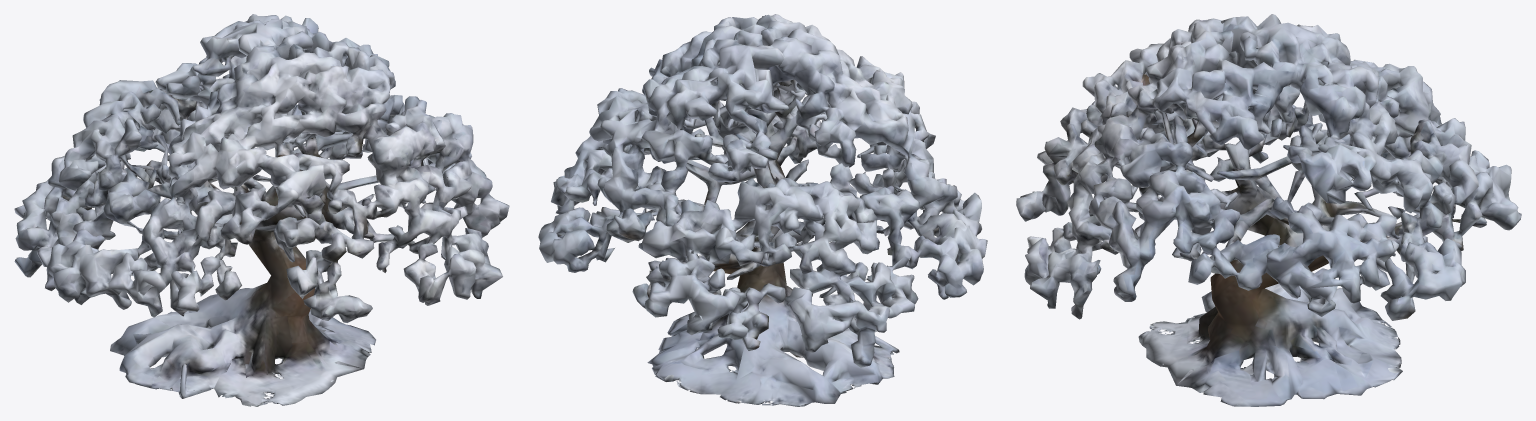
Rendered from albero_neve.glb.
3 views of the same model, side by side, from view 1: azimuth 30°, elevation 25°; view 2: azimuth 150°, elevation 25°; view 3: azimuth 270°, elevation 25° (orthographic). The views are drawn at different scales.
Visible parts, largest first — view 1: winter-tree8_LOW_RES; view 2: winter-tree8_LOW_RES; view 3: winter-tree8_LOW_RES.
Part boxes in pixels (<box>): winter-tree8_LOW_RES: <box>14,14,509,406</box>; winter-tree8_LOW_RES: <box>538,14,987,406</box>; winter-tree8_LOW_RES: <box>1016,14,1521,406</box>.
Bounding box in the file's own units: 1.88 × 1.45 × 1.96.
1 material, 1 textured.
